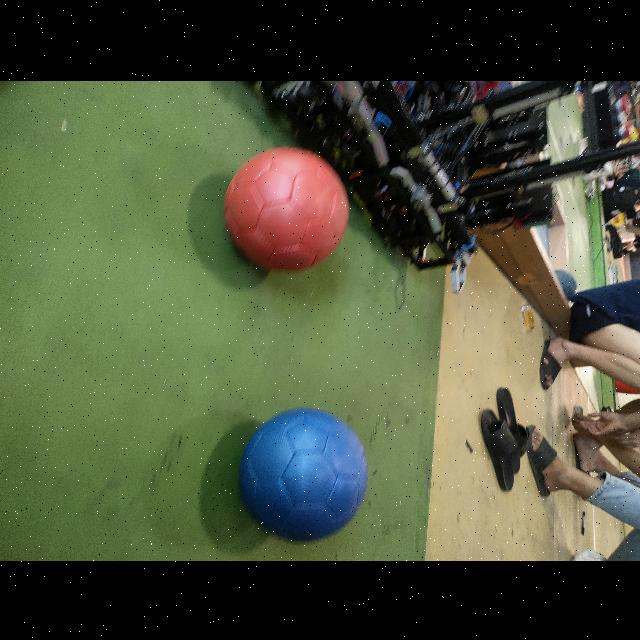B: (240, 408, 368, 541)
R: (225, 147, 348, 270)
